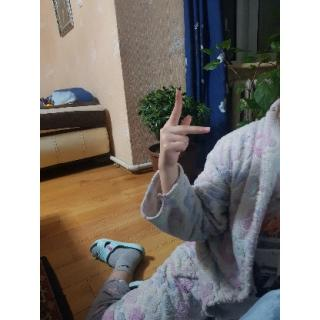DHAA: (155, 87, 213, 172)
